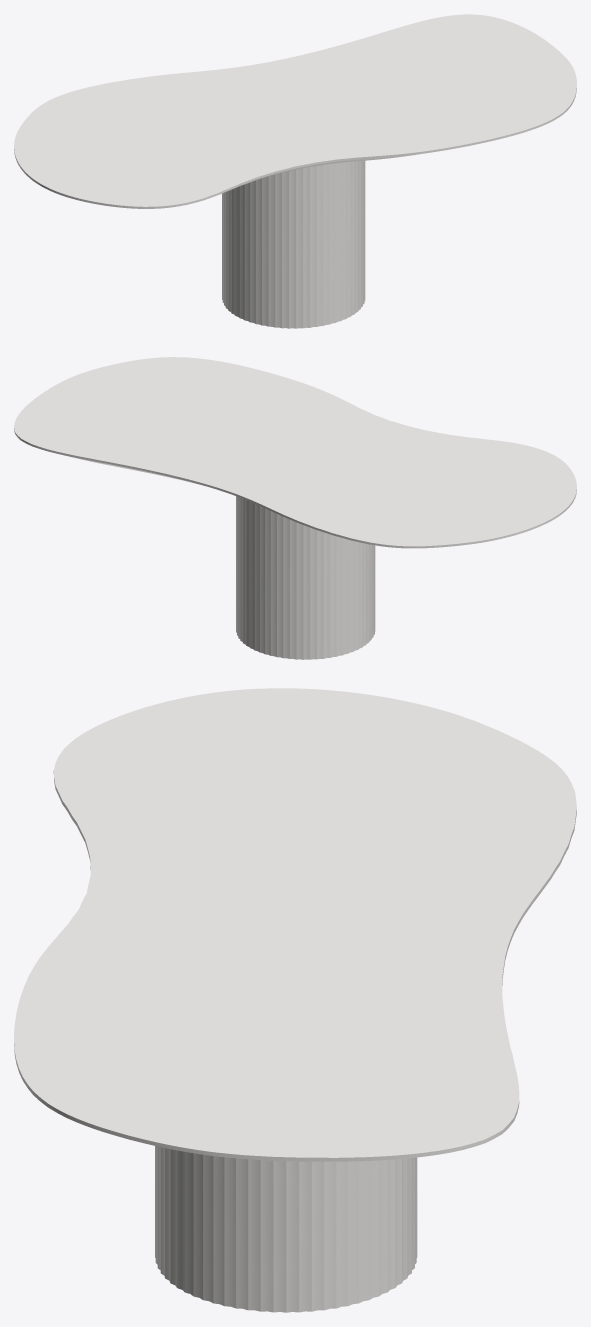
File: purewhite_wave_facet_ripple.glb
3 renders of one model, top to bottom at view 1: azimuth 30°, elevation 25°; view 2: azimuth 150°, elevation 25°; view 3: azimuth 270°, elevation 25°, orthographic. The views are drawn at different scales.
Parts seen in each view (by area): view 1: facet_wave, ripple; view 2: facet_wave, ripple; view 3: facet_wave, ripple.
Part boxes in pixels (x1,y1,x2,y2): facet_wave: (14,14,576,208); ripple: (222,160,365,328); facet_wave: (14,357,576,548); ripple: (236,496,375,659); facet_wave: (14,688,576,1161); ripple: (155,1146,417,1312).
Size of the model in its own units: 7.5 by 2.5 by 3.8.
Materials: 1 (1 with a texture image).
